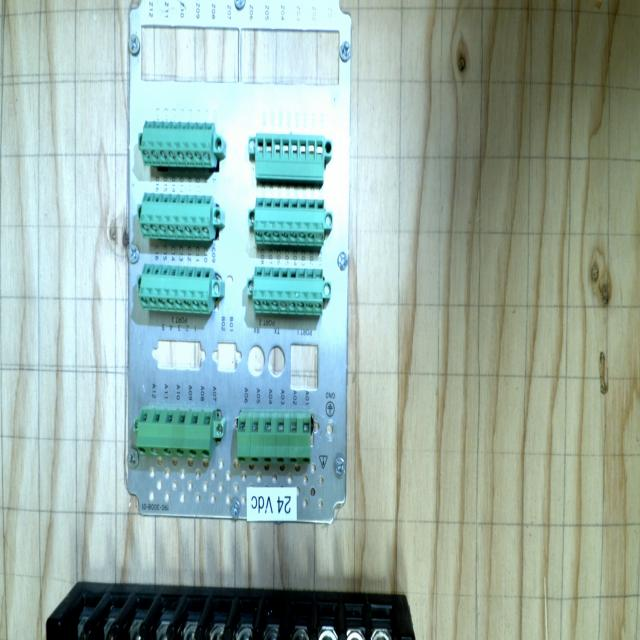Terminal_1: (135, 408, 214, 459), (237, 413, 311, 464)
Terminal_2: (138, 263, 212, 314), (139, 192, 213, 240), (140, 121, 214, 168), (252, 267, 324, 315), (254, 198, 325, 245)
